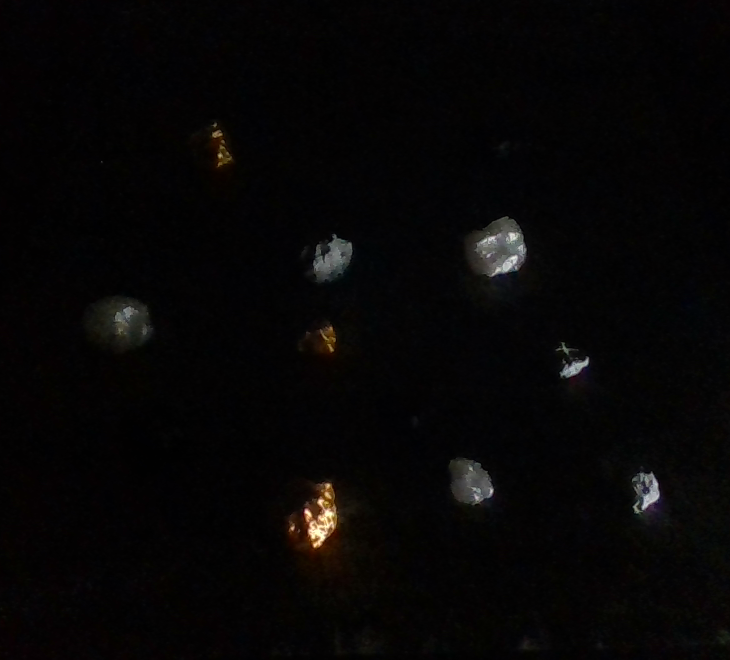anorthosite: (83, 295, 153, 354), (464, 218, 526, 277), (450, 457, 492, 506)
basalt: (122, 405, 182, 479), (377, 393, 424, 431), (473, 120, 521, 156)
metal: (265, 474, 336, 550), (185, 116, 233, 170), (296, 317, 336, 355)
regolith: (293, 230, 352, 284), (613, 466, 659, 514), (543, 341, 589, 380)
